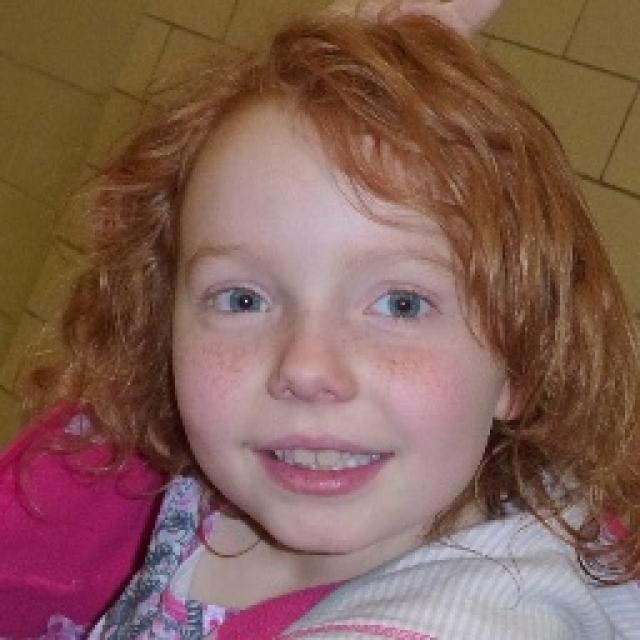earlobe: (492, 386, 525, 425)
eye: (365, 289, 441, 323), (207, 283, 269, 316)
nose: (270, 387, 360, 429)
